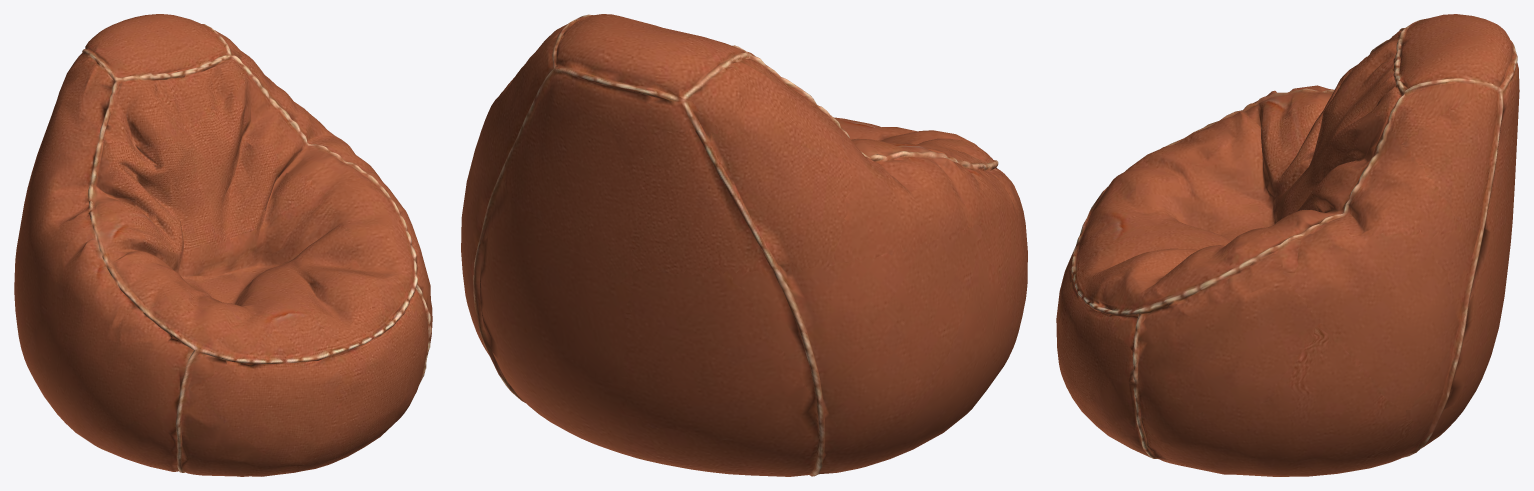
File: beanbag.medium.glb
The picture shows the model from 3 angles, left to right: view 1: azimuth 30°, elevation 25°; view 2: azimuth 150°, elevation 25°; view 3: azimuth 270°, elevation 25°; orthographic projection. The views are drawn at different scales.
Parts seen in each view (by area): view 1: tripo_node_8b5d36cf-8a70-4076-bdee-36c7931b2535; view 2: tripo_node_8b5d36cf-8a70-4076-bdee-36c7931b2535; view 3: tripo_node_8b5d36cf-8a70-4076-bdee-36c7931b2535.
Boxes of the visible parts, x1,y1,x2,y2 form: tripo_node_8b5d36cf-8a70-4076-bdee-36c7931b2535: (14, 14, 432, 476); tripo_node_8b5d36cf-8a70-4076-bdee-36c7931b2535: (461, 14, 1027, 476); tripo_node_8b5d36cf-8a70-4076-bdee-36c7931b2535: (1056, 14, 1519, 476).
Bounding box in the file's own units: 0.8995 × 0.8083 × 0.899.
1 material, 1 textured.
